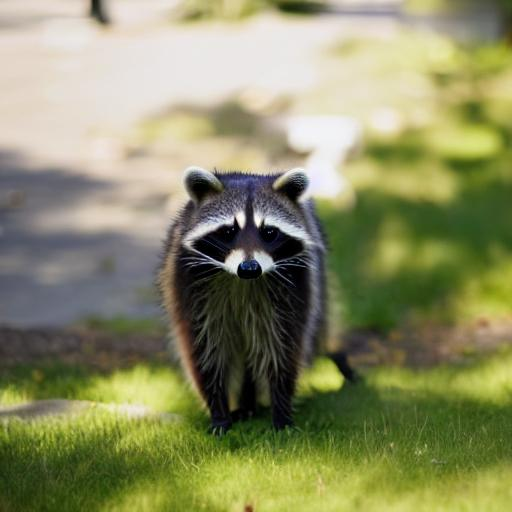raccoon: (147, 152, 342, 405)
